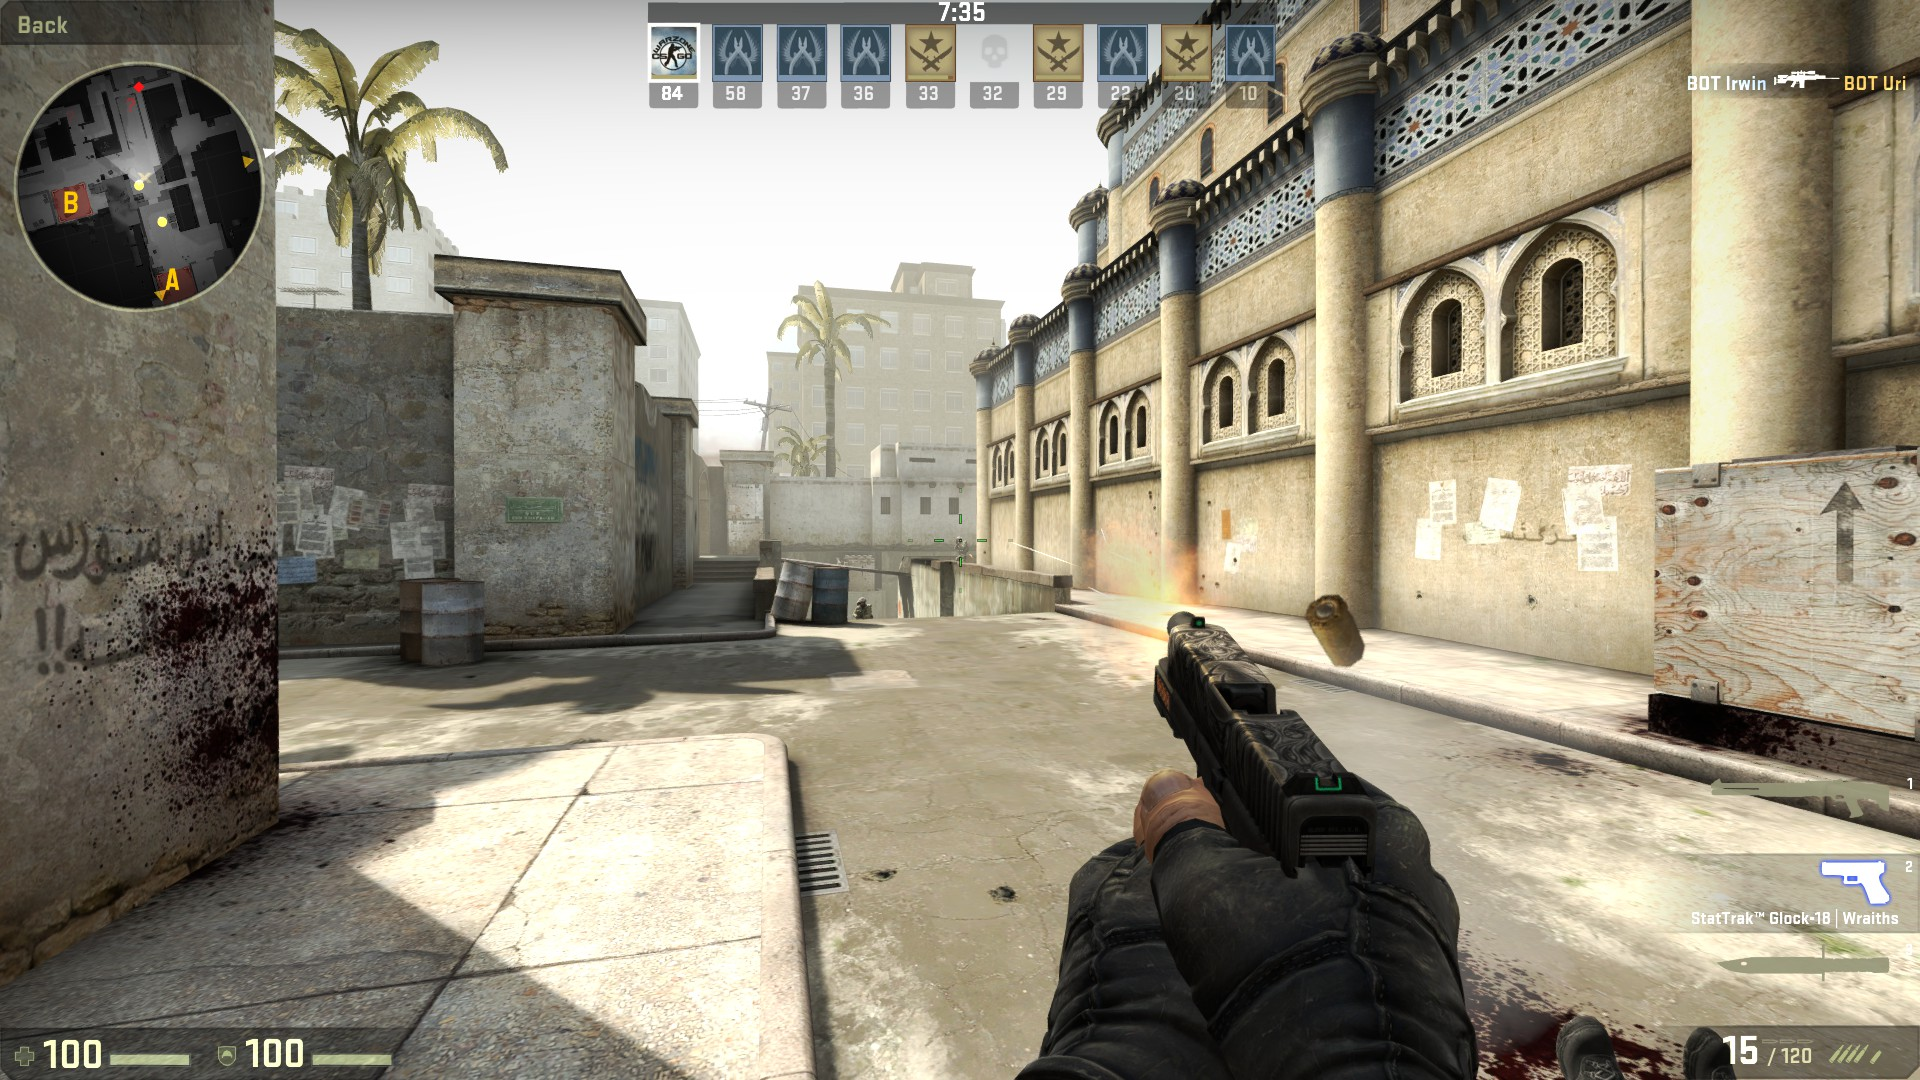c: (953, 535, 969, 564), (853, 596, 872, 620)
ch: (857, 596, 866, 608), (955, 535, 965, 545)
